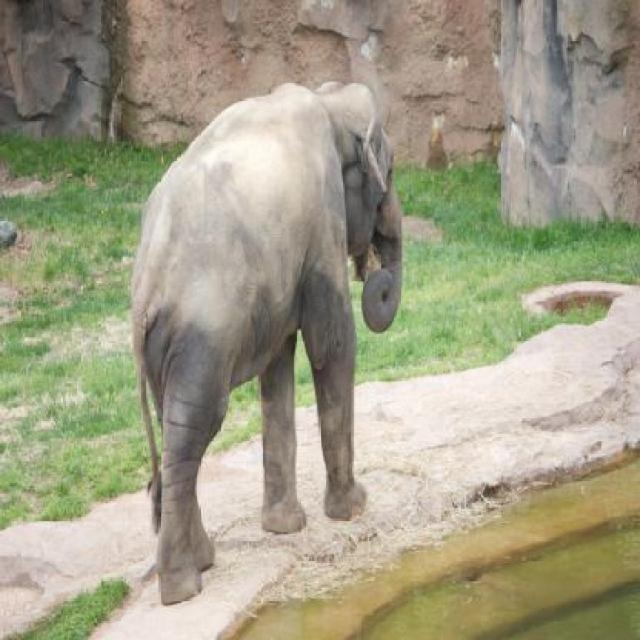Elephant: (155, 79, 402, 604)
